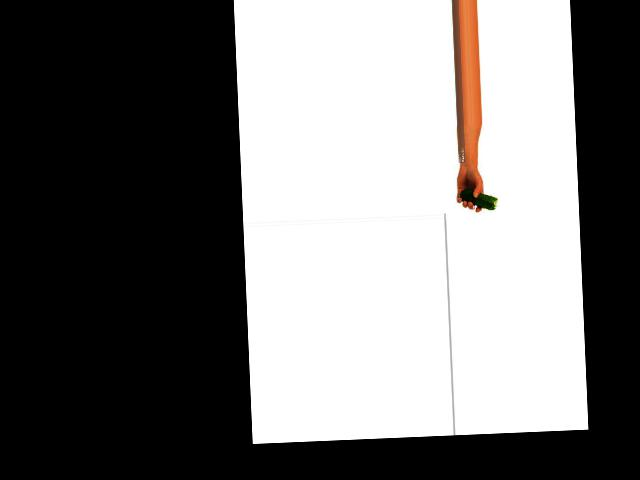cucumber: (459, 187, 497, 211)
